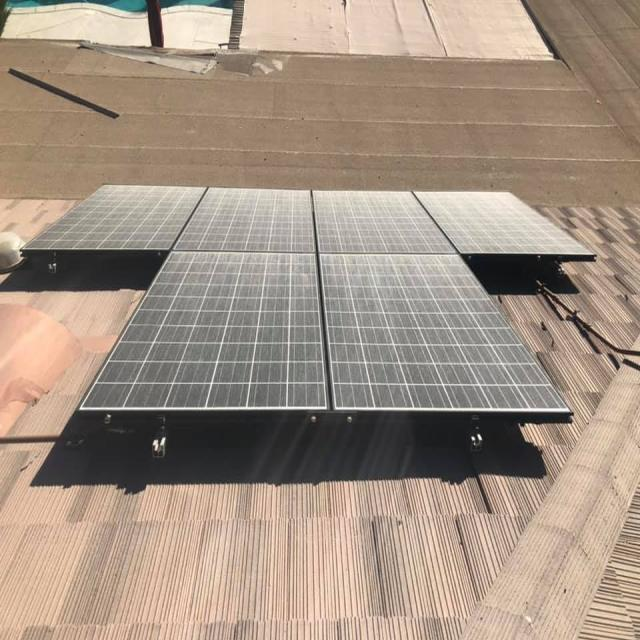dust-solar-panel: (22, 186, 595, 418)
